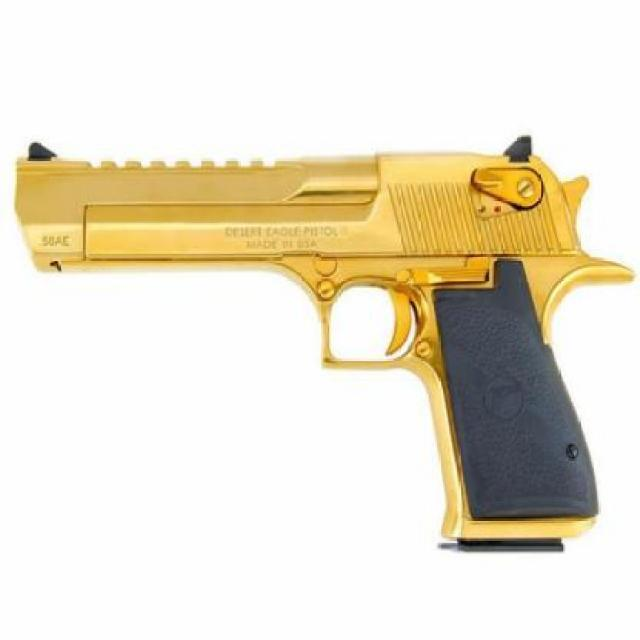gun: (10, 129, 636, 606)
